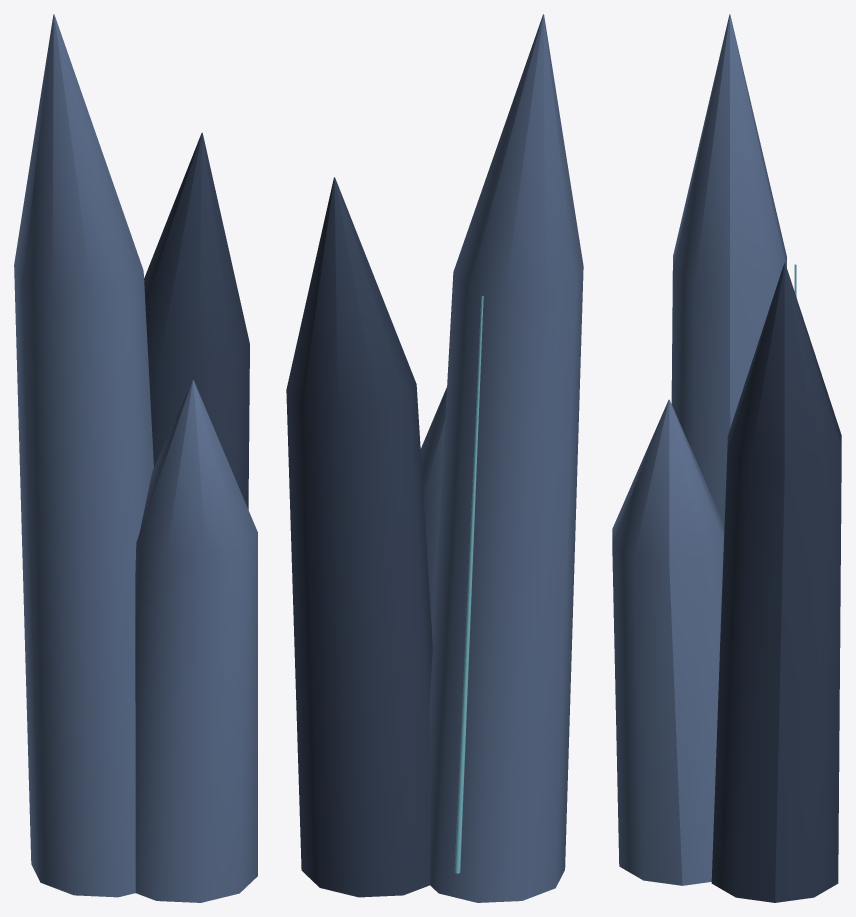
File: prop_2_2.glb
The picture shows the model from 3 angles, left to right: view 1: azimuth 30°, elevation 25°; view 2: azimuth 150°, elevation 25°; view 3: azimuth 270°, elevation 25°; orthographic projection. The views are drawn at different scales.
Parts seen in each view (by area): view 1: MoonShard (×3); view 2: MoonShard (×3), CrystalVein; view 3: MoonShard (×3).
Part boxes in pixels (x1,y1,x2,y2): MoonShard (×3): (14,14,257,902); MoonShard (×3): (286,14,583,902); CrystalVein: (454,296,483,873); MoonShard (×3): (612,14,841,902).
Bounding box in the file's own units: 1.99 × 6.6 × 1.72.
